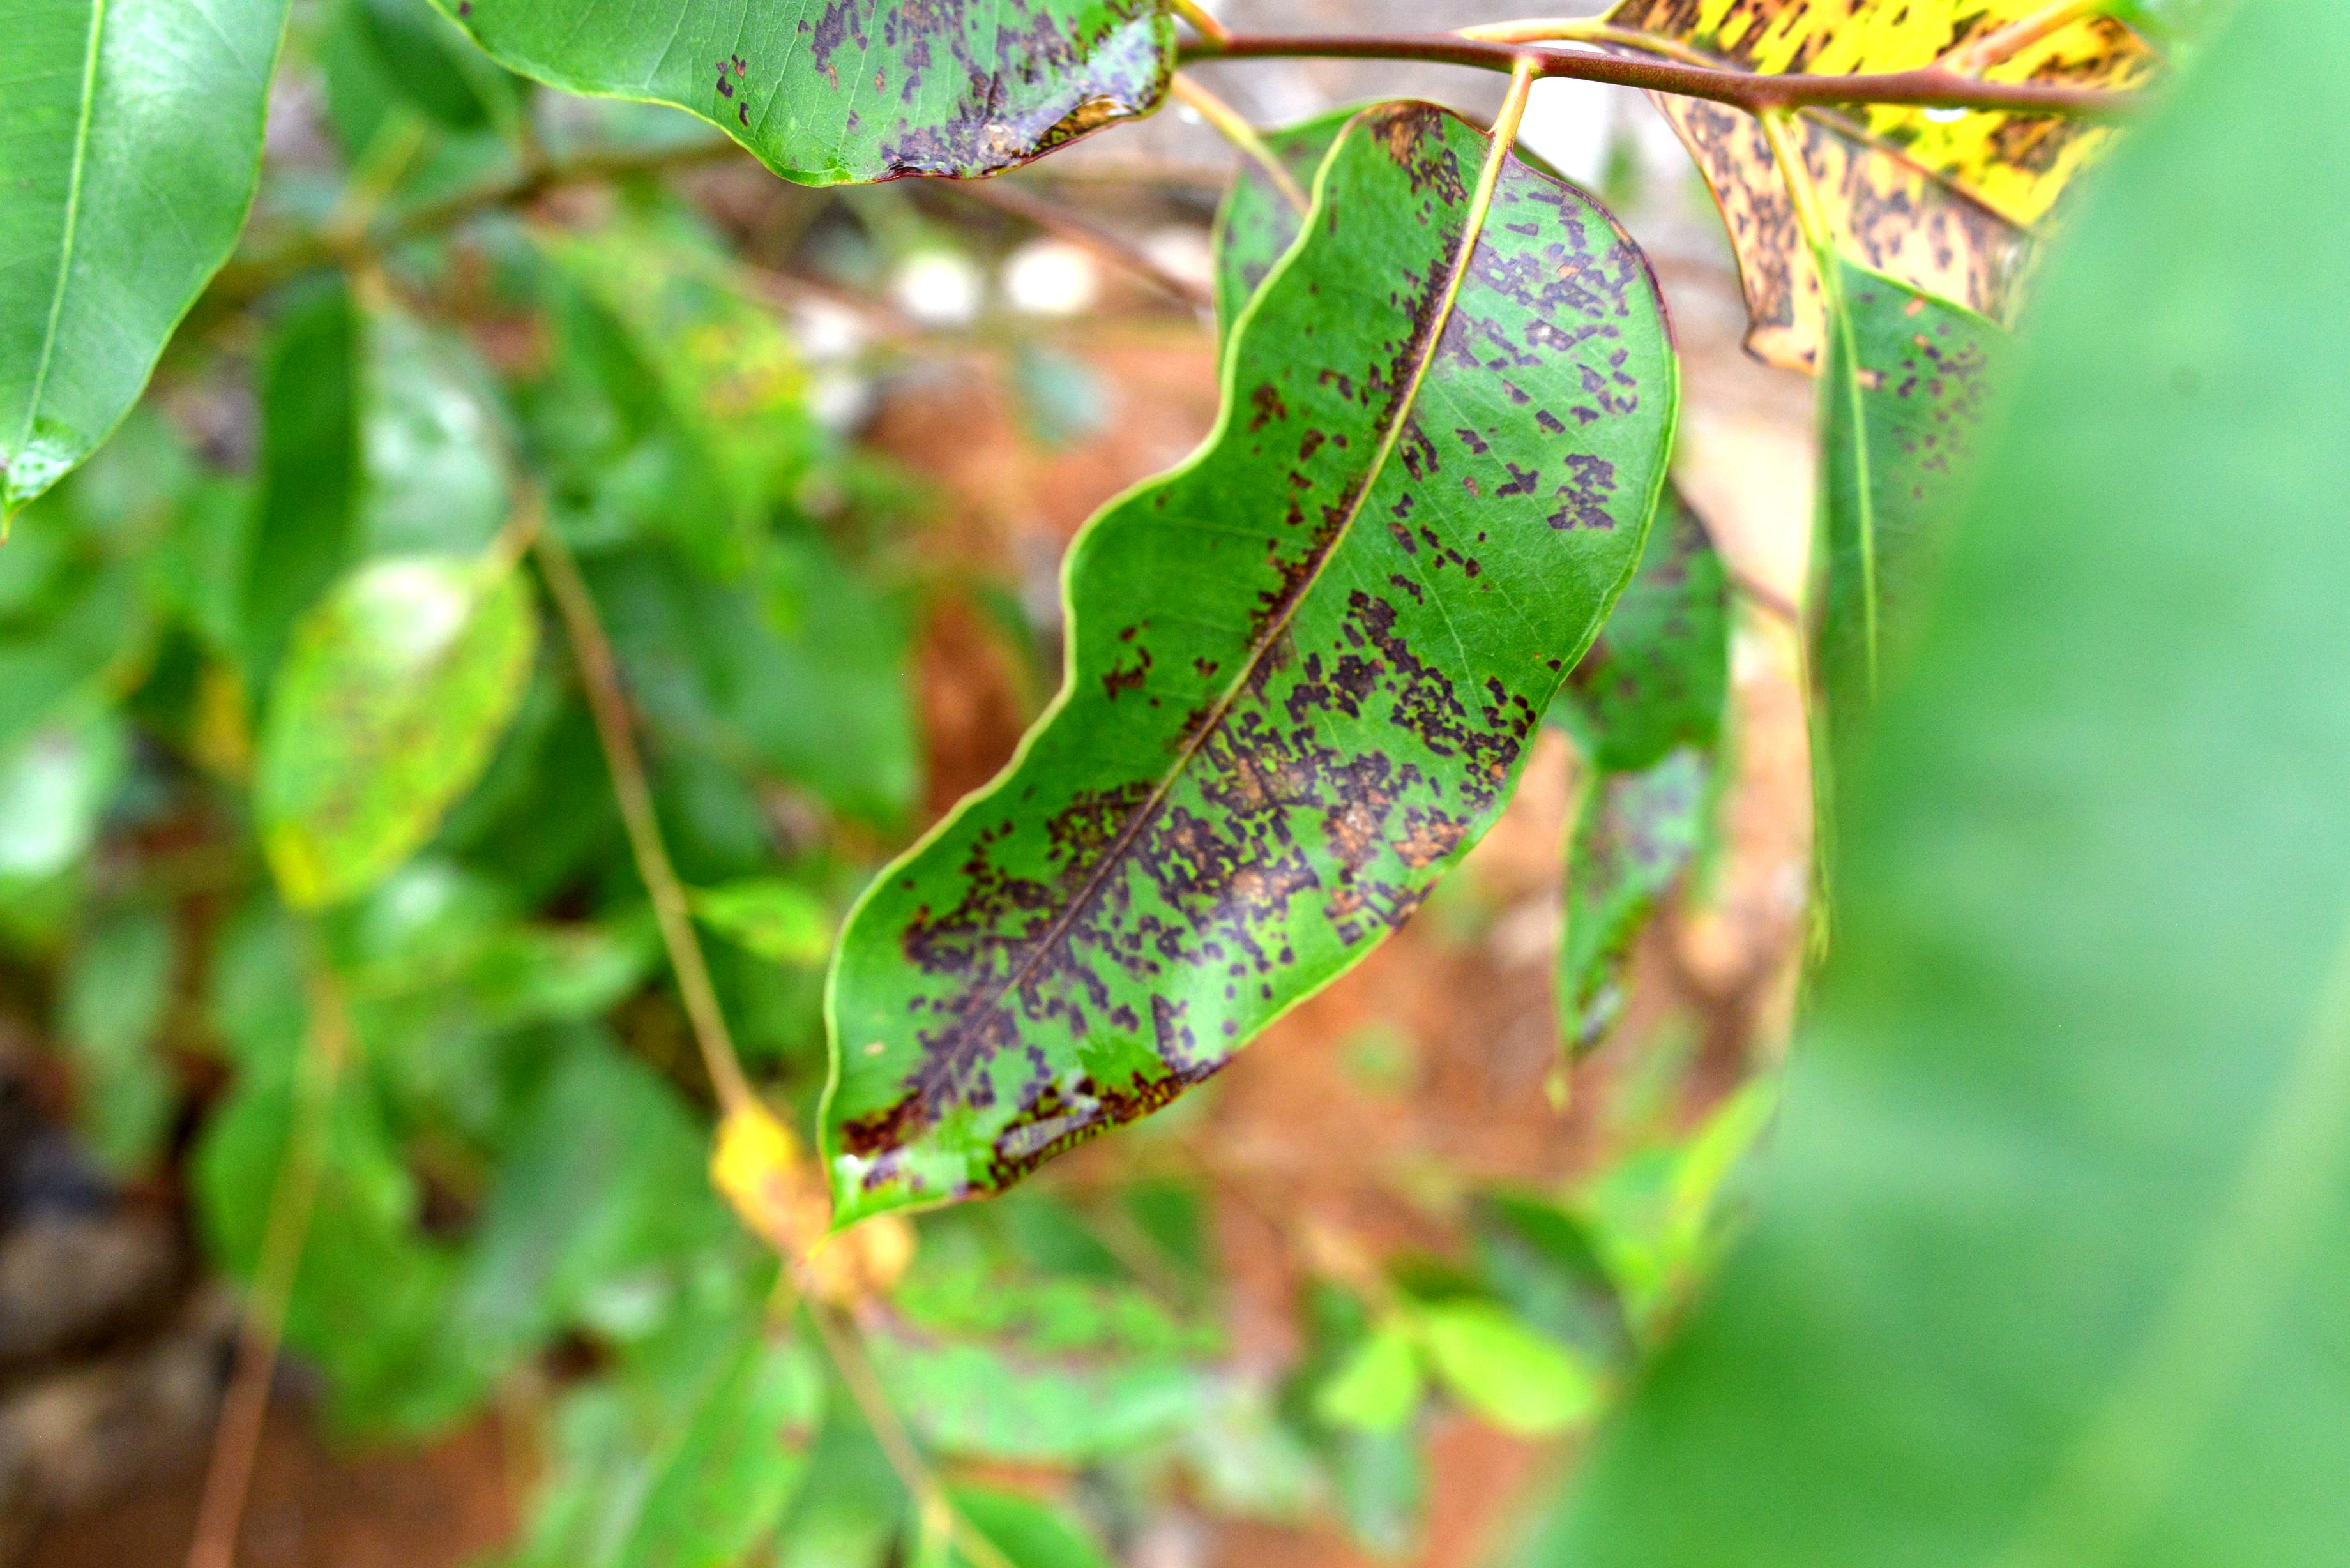Xanthomonas: (824, 115, 1682, 1235), (1626, 0, 2214, 425), (562, 0, 1195, 96)
